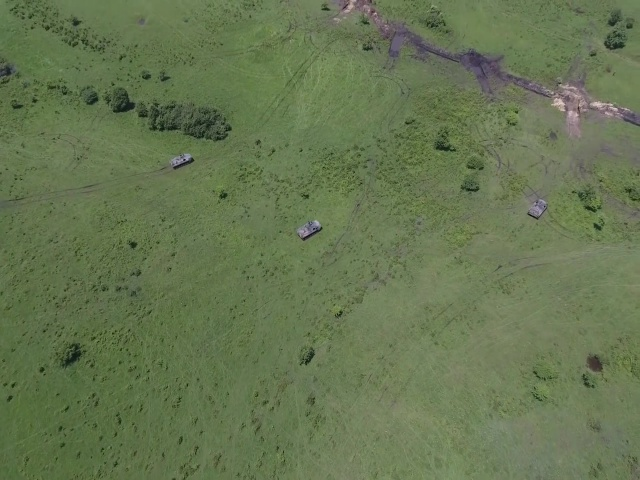vehicle: (526, 195, 549, 220), (296, 220, 323, 240), (167, 152, 194, 170)
